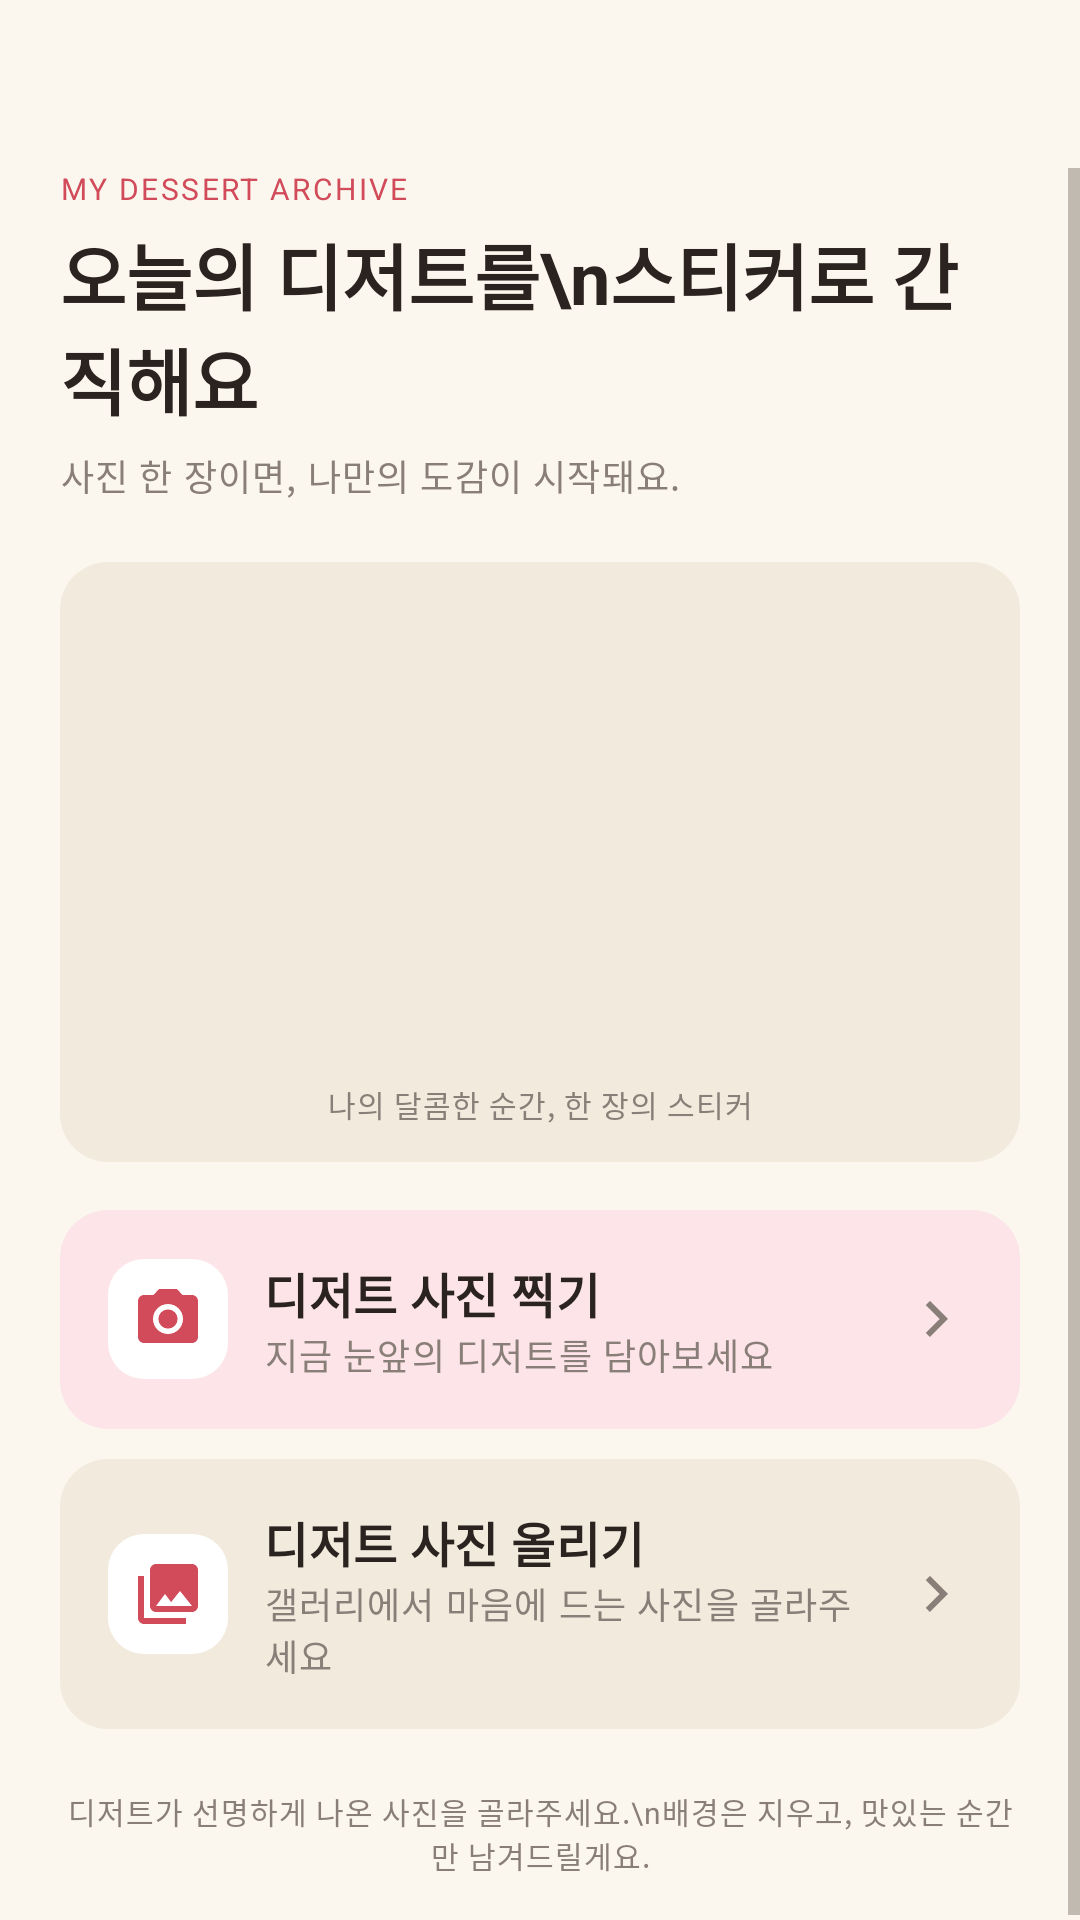

Icon bounding boxes for this 1080 × 1920 phone screenshot, format (x1,y1,x2,y2):
photo camera: (108,1259,228,1379)
photo library: (108,1534,228,1654)
